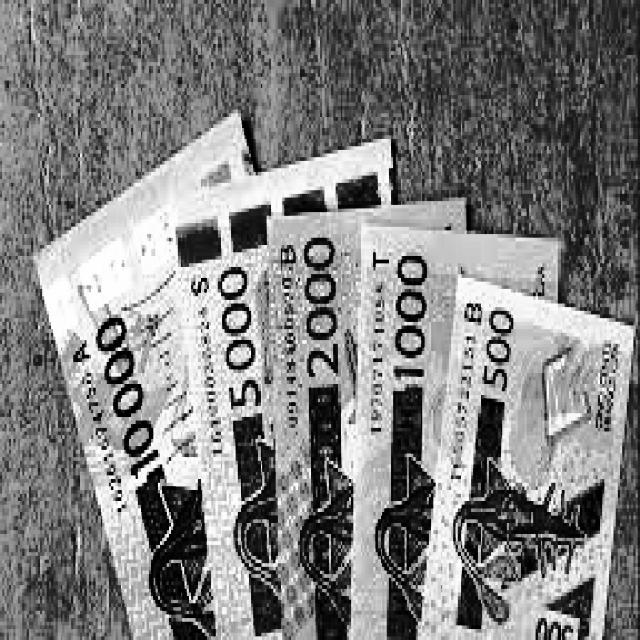junni: (176, 143, 390, 636)
niaar junni: (37, 114, 252, 633)
niaar teemeer: (351, 222, 556, 636)
nient teemeer: (269, 206, 428, 640)
teemeer: (418, 278, 632, 638)
